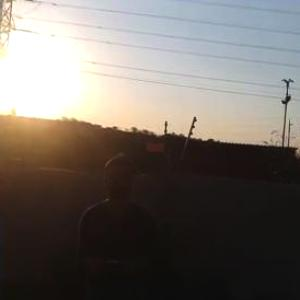follow: (70, 151, 161, 299)
